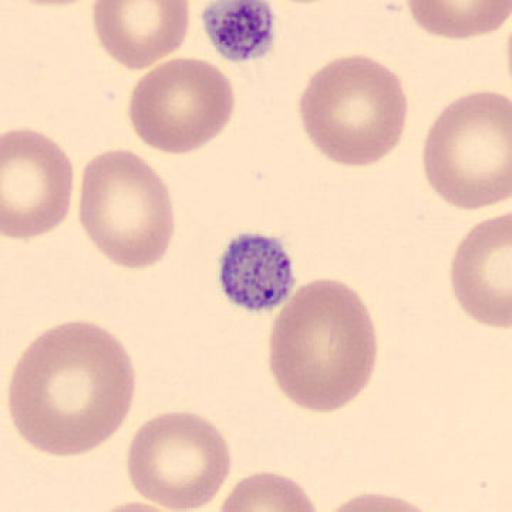Platelet: (214, 228, 298, 314), (199, 0, 279, 63)
RBC: (7, 319, 137, 460), (267, 276, 379, 415), (296, 52, 410, 168), (77, 147, 176, 272), (421, 88, 512, 212), (124, 410, 232, 511), (126, 56, 235, 156), (2, 126, 75, 241), (449, 211, 512, 331), (92, 0, 191, 71), (218, 468, 320, 512), (405, 0, 511, 41), (322, 491, 440, 512), (85, 499, 189, 512), (6, 0, 96, 7)
